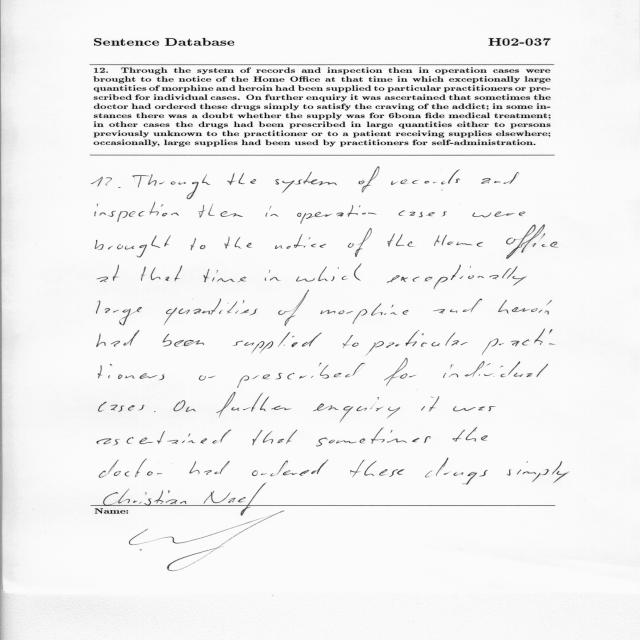word: (387, 265, 526, 290), (237, 363, 365, 388), (366, 330, 468, 356), (164, 299, 258, 325), (313, 397, 400, 423), (316, 428, 431, 447), (97, 430, 231, 446), (252, 459, 328, 485), (133, 174, 210, 199), (482, 329, 555, 355), (216, 392, 291, 417), (320, 303, 409, 324), (233, 332, 322, 353), (443, 361, 548, 378), (506, 225, 558, 259), (425, 458, 488, 485), (95, 236, 171, 258), (95, 203, 179, 222), (297, 205, 377, 224), (507, 461, 569, 483), (275, 172, 337, 193), (99, 459, 163, 478), (296, 264, 362, 282), (97, 301, 142, 326), (278, 290, 309, 326), (391, 169, 460, 185), (99, 364, 165, 380), (350, 460, 405, 477), (384, 358, 416, 386), (498, 300, 552, 315), (275, 234, 326, 249), (433, 299, 482, 314), (97, 330, 140, 347), (253, 430, 298, 446), (348, 228, 372, 257), (141, 266, 182, 282), (198, 204, 243, 218), (434, 235, 483, 247), (189, 461, 230, 475), (203, 269, 246, 282), (359, 167, 380, 193), (163, 334, 205, 347), (452, 427, 488, 442), (99, 402, 145, 412), (481, 172, 519, 184), (387, 233, 414, 247), (97, 265, 119, 282), (227, 173, 256, 185), (398, 211, 447, 218), (224, 237, 252, 249), (473, 212, 526, 218), (421, 396, 439, 412), (174, 400, 196, 412), (91, 177, 112, 187), (453, 406, 495, 411), (343, 335, 358, 348), (191, 238, 206, 250), (265, 270, 280, 281), (265, 206, 279, 217), (199, 376, 216, 381), (118, 187, 121, 188), (154, 411, 156, 412)
